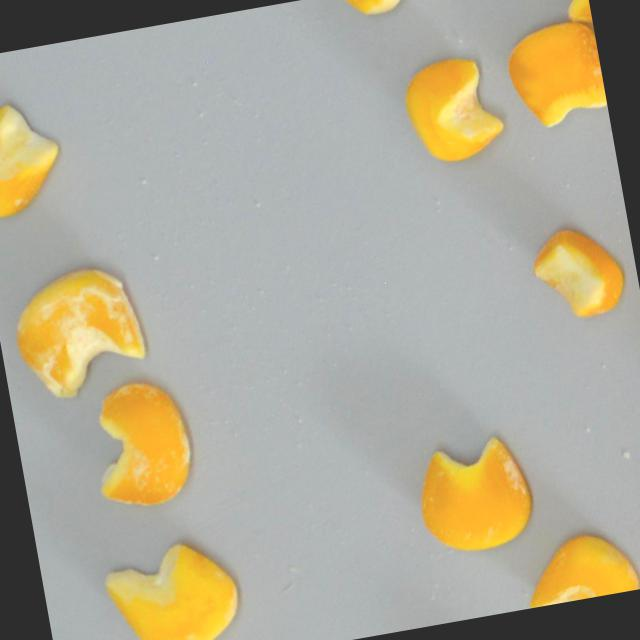no_canjicado: (98, 533, 246, 640), (397, 52, 506, 167), (525, 220, 628, 326), (0, 96, 69, 219)
pelicula: (3, 258, 149, 405), (408, 430, 539, 559), (83, 375, 197, 514), (497, 16, 609, 131), (515, 525, 639, 608), (338, 0, 440, 21), (551, 0, 594, 35)
